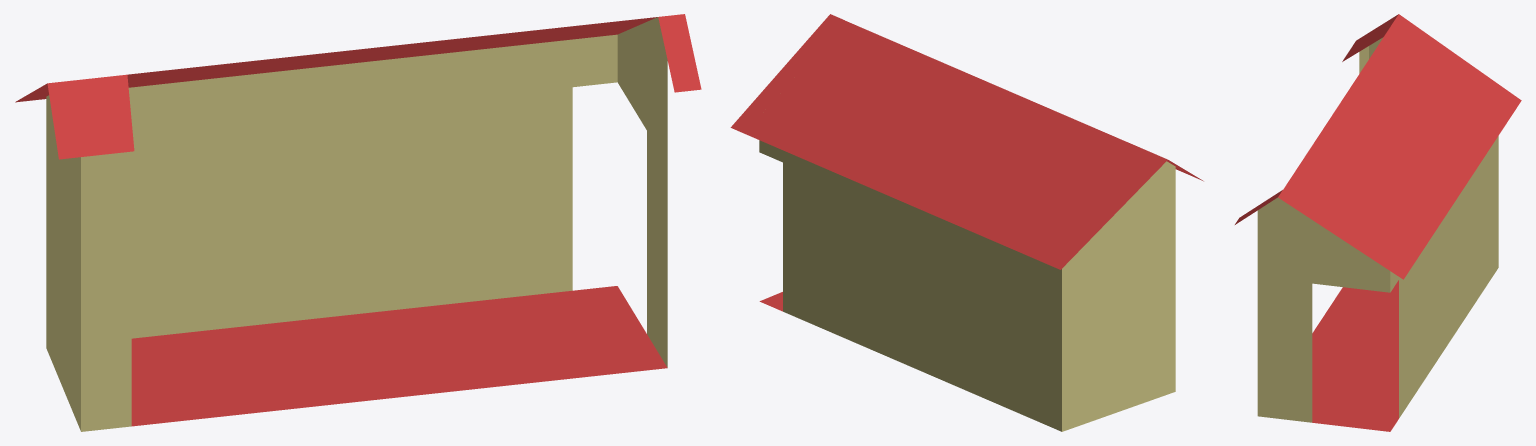
3 views of the same model, side by side, from view 1: azimuth 30°, elevation 25°; view 2: azimuth 150°, elevation 25°; view 3: azimuth 270°, elevation 25° (orthographic). The views are drawn at different scales.
Bounding box in the file's own units: 19.12 × 11.34 × 10.
